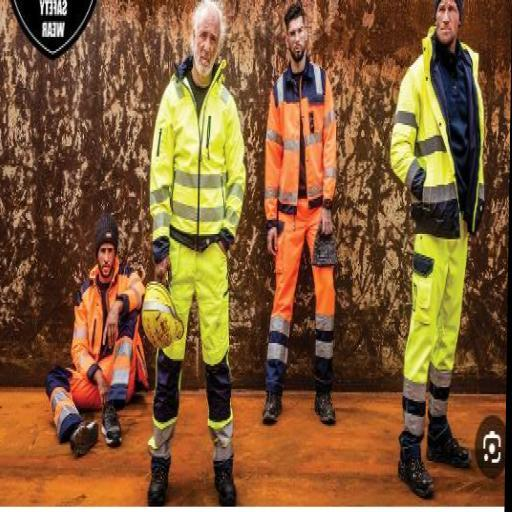safety_boots: (424, 413, 479, 471), (387, 444, 438, 506), (137, 454, 177, 510), (60, 418, 102, 470), (202, 458, 242, 506), (98, 406, 129, 462), (251, 392, 285, 434), (310, 386, 338, 432)
